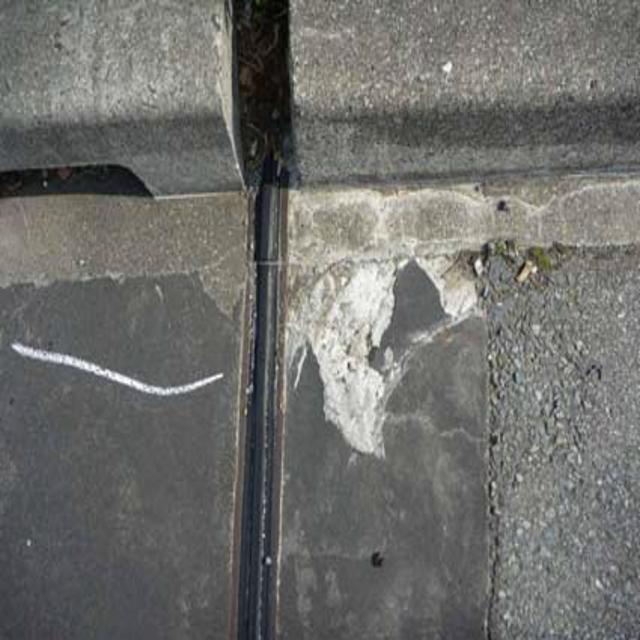spalling: (286, 250, 486, 471)
